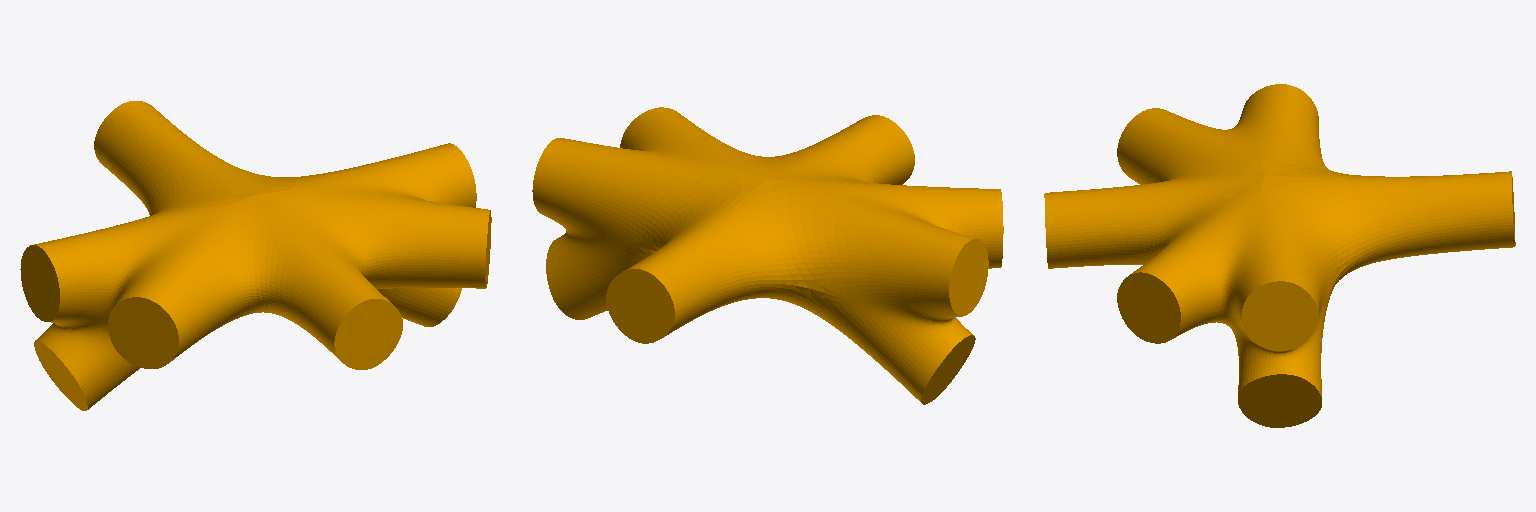
URDF robot description (object):
<robot name="object">
  <link name="object">
    <visual>
      <origin xyz="0 0 0"/>
      <geometry>
        <mesh filename="visual.obj" scale="1 1 1"/>
      </geometry>
    </visual>
    <collision>
      <origin xyz="0 0 0"/>
      <geometry>
        <mesh filename="collision.obj" scale="1 1 1"/>
      </geometry>
    </collision>
    <inertial>
      <mass value="0.05"/>
      <inertia ixx="5.9002471682370424e-05" iyy="0.00011199753906562102" izz="0.00015271798069405656" ixy="-9.519189708600524e-09" ixz="-1.179636153110866e-07" iyz="-1.4211632200352448e-07"/>
    </inertial>
  </link>
</robot>

--- Render facts (derived) ---
The picture shows the robot from 3 angles, left to right: view 1: azimuth 30°, elevation 25°; view 2: azimuth 150°, elevation 25°; view 3: azimuth 270°, elevation 25°; orthographic projection.
Robot: object — 1 links, 0 joints (none); root link object; default pose: all joints at 0.
Visible links, largest first — view 1: object; view 2: object; view 3: object.
Boxes of the visible links, box(x1,y1,x2,y2) form: object: box(20, 101, 491, 410); object: box(532, 107, 1003, 404); object: box(1044, 84, 1515, 427).
Size in the robot's own frame: 0.1836 by 0.1845 by 0.0745 metres.
Meshes: 1 distinct files referenced, 1 mesh visuals loaded (1 OBJ).
